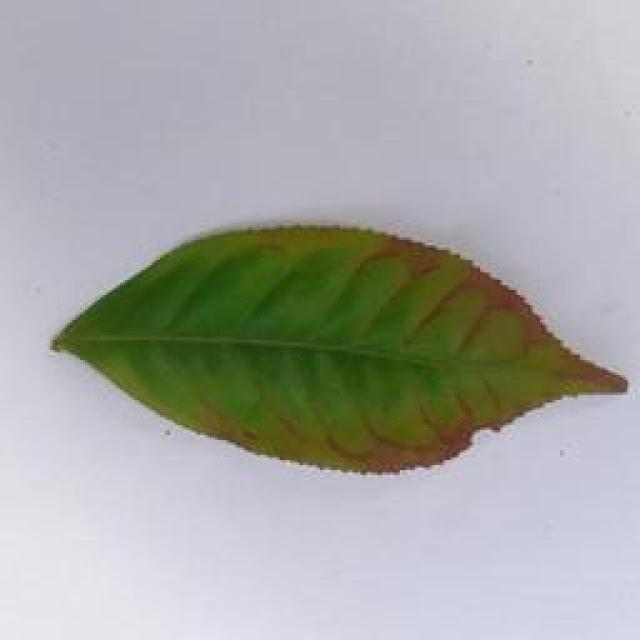Red Leaf Spot: (31, 230, 640, 493)
